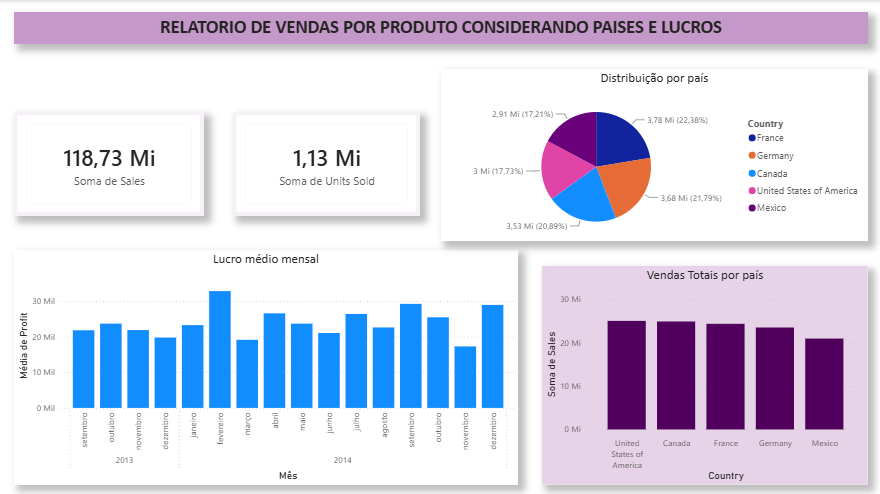

This screenshot's page, from the dashboard's own definition file:
{"tool":"powerbi","page":{"name":"Página 2","canvas":[1280,720],"ordinal":1},"visuals":[{"type":"textbox","box":[24.5,17.3,1229.8,46.1],"z":0},{"type":"cardVisual","title":"Totais de Vendas","fields":{"Data":["Sum(financials.Sales)"]},"box":[24.5,161.3,273.6,149.8],"z":1000},{"type":"cardVisual","title":"Total de Unidades Vendidas","fields":{"Data":["Sum(financials.Units Sold)"]},"box":[339.8,161.3,269.3,149.8],"z":2000},{"type":"pieChart","title":"Distribuição por país","fields":{"Category":["financials.Country"],"Y":["Sum(financials.Profit)"]},"box":[639.4,99.4,614.9,247.7],"z":3000},{"type":"clusteredColumnChart","title":"Lucro médio mensal","fields":{"Category":["financials.Date.Variation.Hierarquia de datas.Ano","financials.Date.Variation.Hierarquia de datas.Mês"],"Y":["Avg(financials.Profit)"]},"box":[24.5,360,725.8,338.4],"z":4000},{"type":"clusteredColumnChart","title":"Vendas Totais por país","fields":{"Category":["financials.Country"],"Y":["Sum(financials.Sales)"]},"box":[784.8,383,469.4,315.4],"z":5000}]}

Visuals, with their boxes in screenshot pixels (x1, y1, x2, y2), scaled from the page's 1280x720 canvas onto the 880x494 screenshot:
textbox: Rect(17, 12, 862, 43)
"Totais de Vendas" cardVisual: Rect(17, 111, 205, 213)
"Total de Unidades Vendidas" cardVisual: Rect(234, 111, 419, 213)
"Distribuição por país" pieChart: Rect(440, 68, 862, 238)
"Lucro médio mensal" clusteredColumnChart: Rect(17, 247, 516, 479)
"Vendas Totais por país" clusteredColumnChart: Rect(540, 263, 862, 479)
